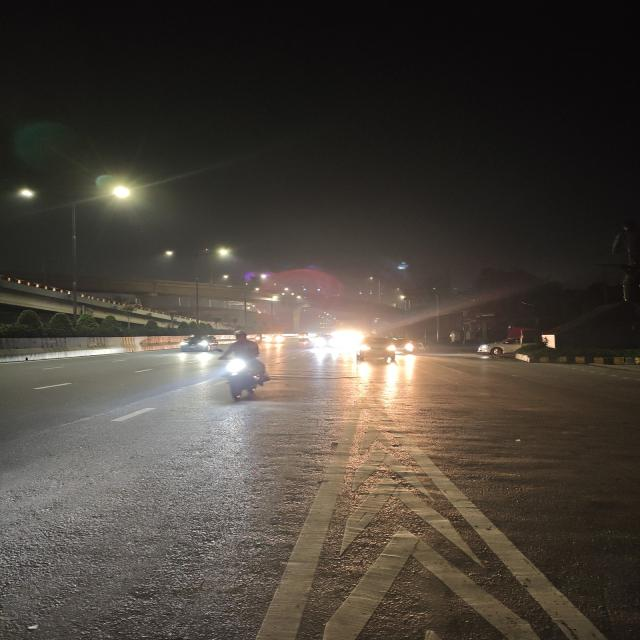car: (177, 326, 223, 357), (477, 335, 535, 357), (354, 334, 396, 362)
motorcycle: (213, 330, 273, 402)
